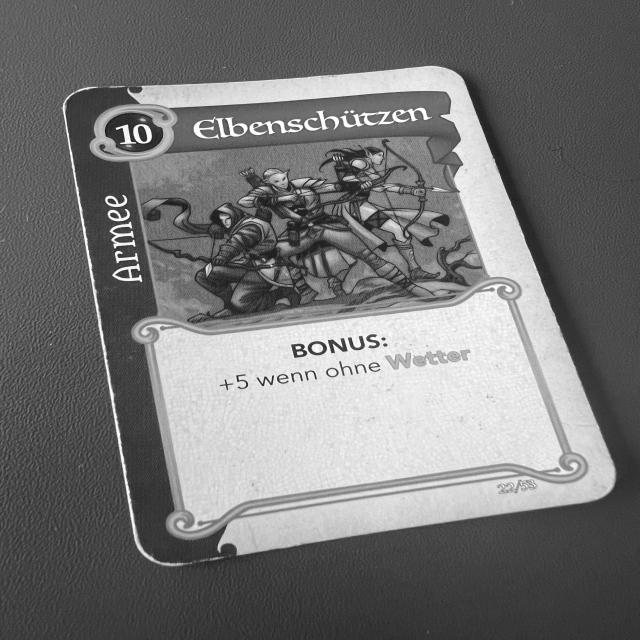Elven Archers: (50, 63, 631, 575)
